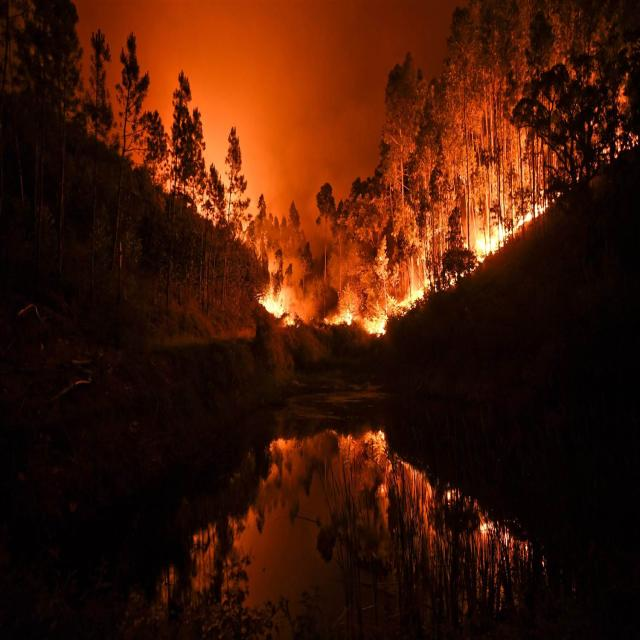Fire: (258, 195, 556, 329)
